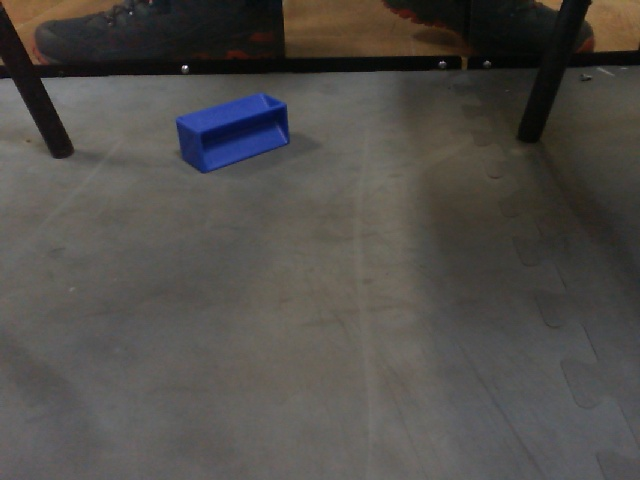BlueSample: (171, 87, 294, 181)
